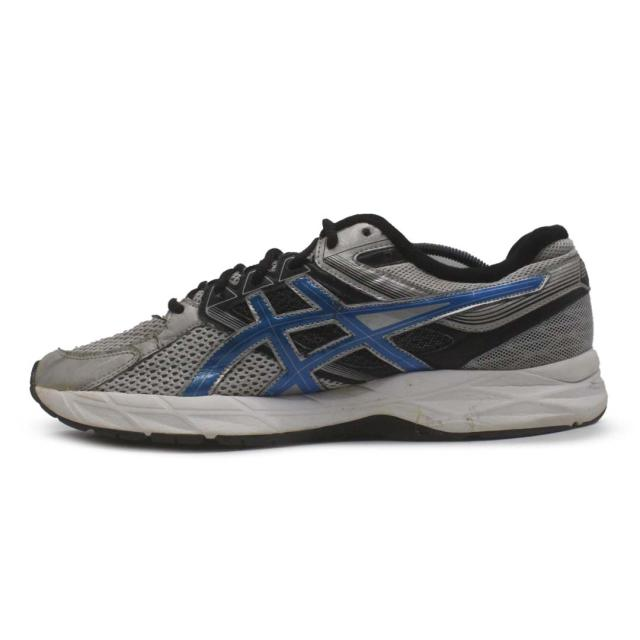heel: (518, 224, 591, 366)
midsole: (26, 352, 603, 445)
uppersole: (36, 218, 521, 394)
